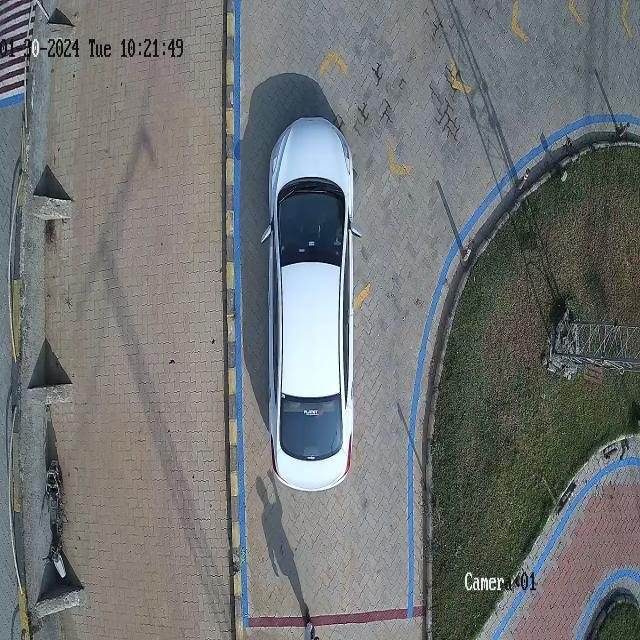car: (262, 118, 361, 491)
